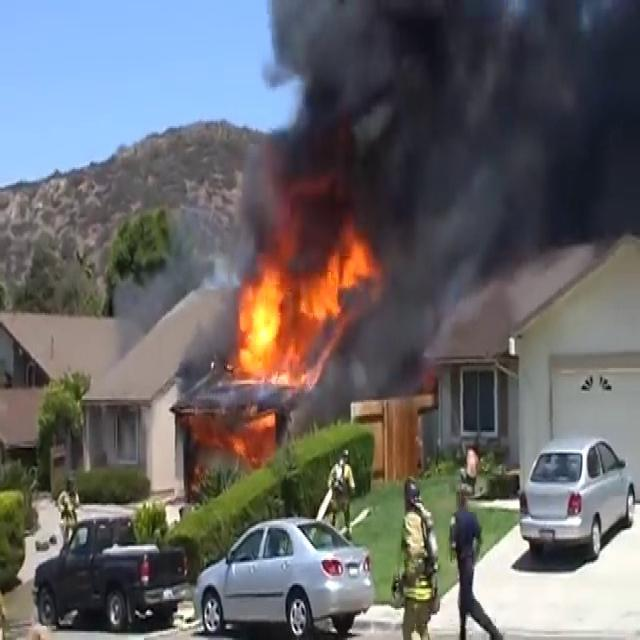Fire: (226, 228, 376, 390)
Smoke: (220, 1, 639, 321)
